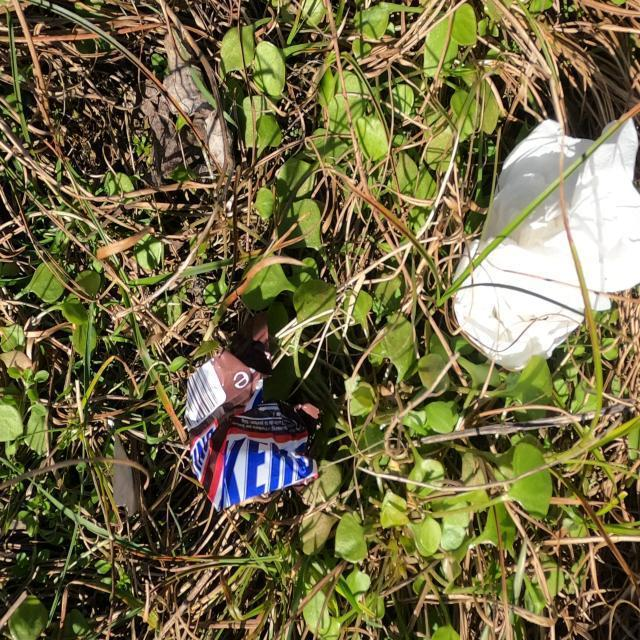Plastic: (452, 117, 640, 370), (183, 310, 322, 512)
